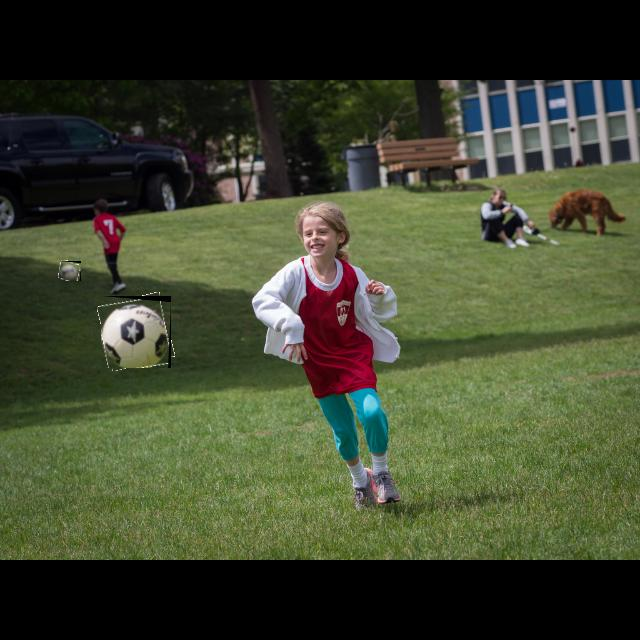Football: (101, 296, 171, 368), (59, 261, 81, 281)
